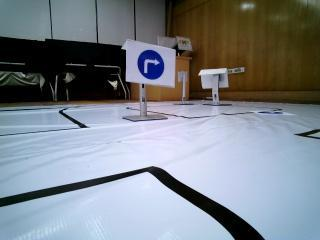right: (124, 41, 178, 86)
